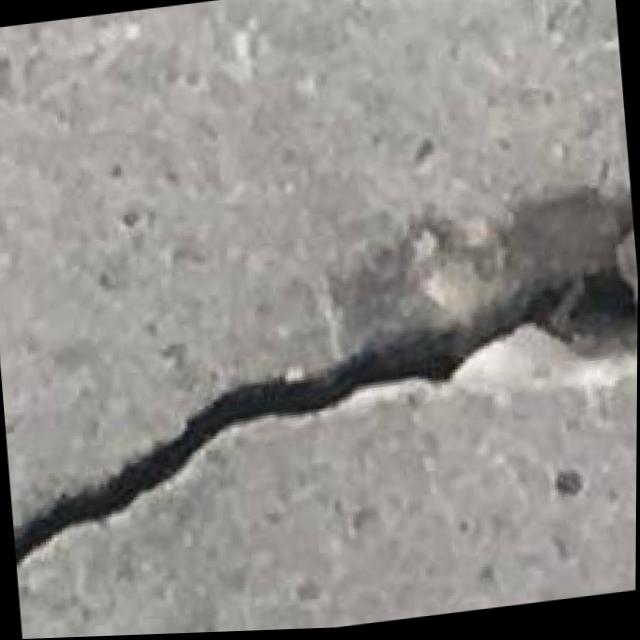Crack: (0, 185, 639, 593)
